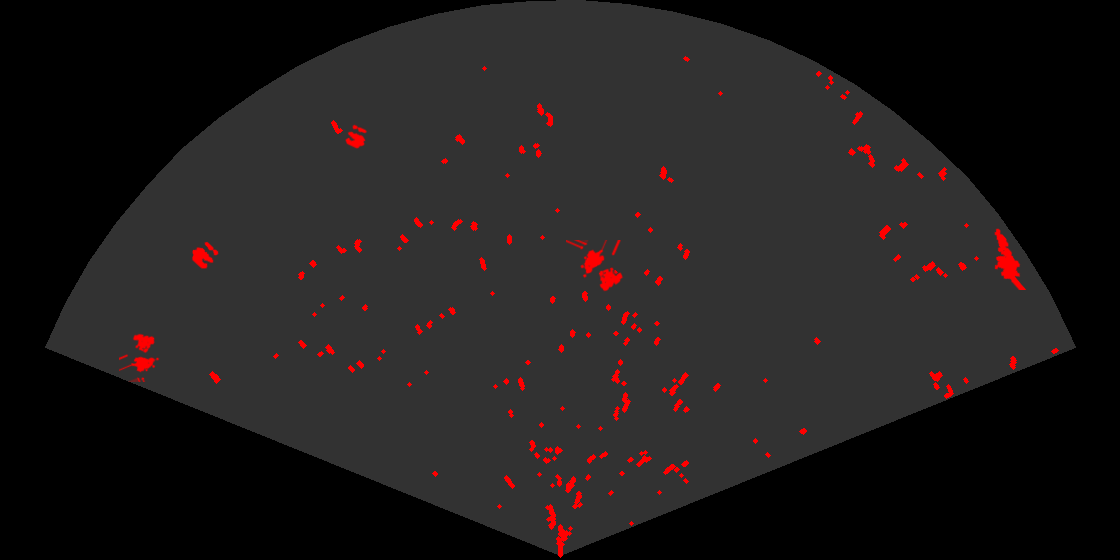ball: (190, 240, 220, 270), (344, 123, 369, 150)
cage: (566, 240, 625, 293), (119, 332, 161, 382)
frogman: (993, 227, 1028, 290)
